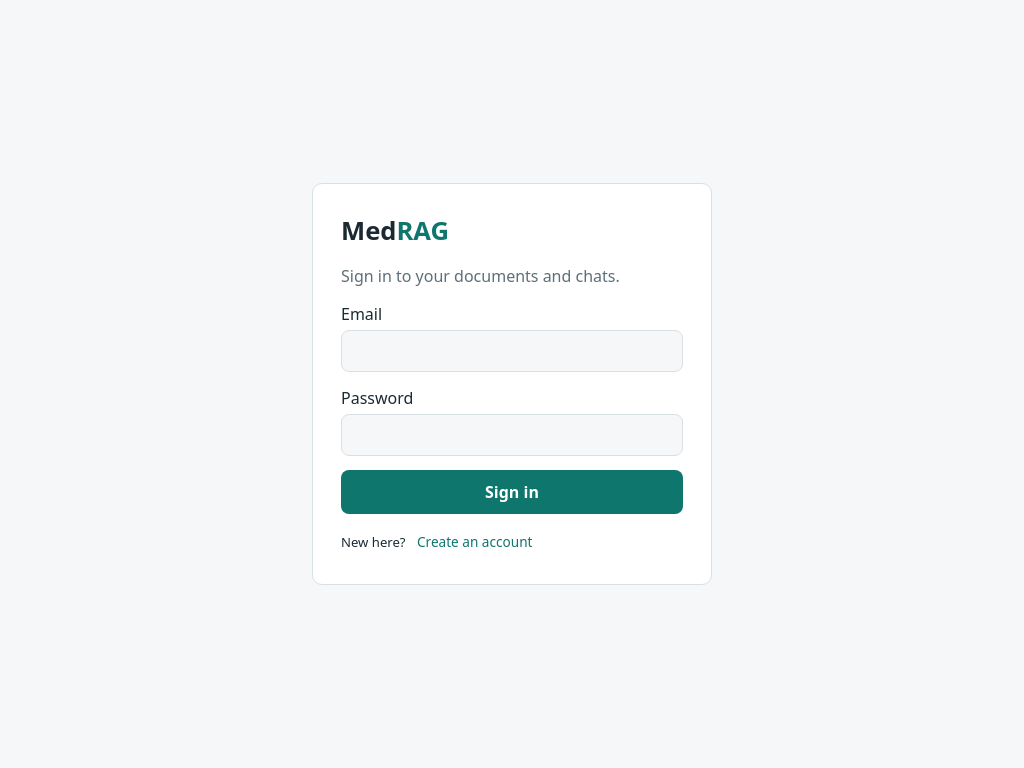
Scenario: signing in and out › shows the sign-in screen without a session, then the workspace
In the field labelled "Email": (512, 351) [341,330,683,372], type "alice@example.org"
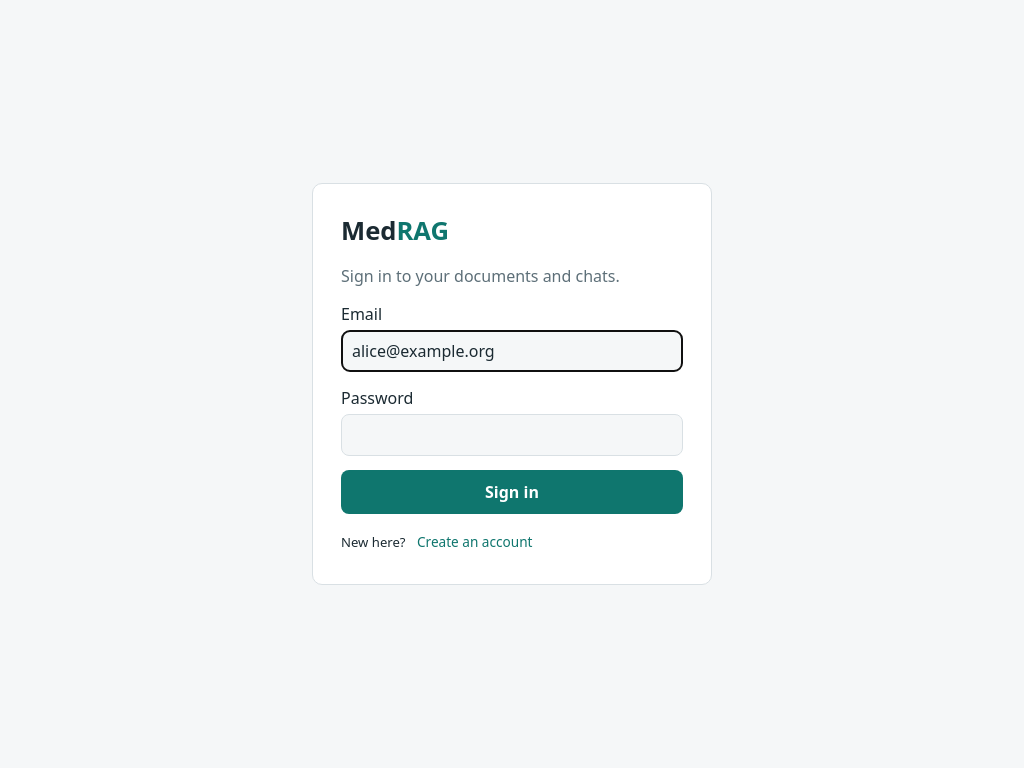
In the password field labelled "Password": (512, 435) [341,414,683,456], type "correct horse"
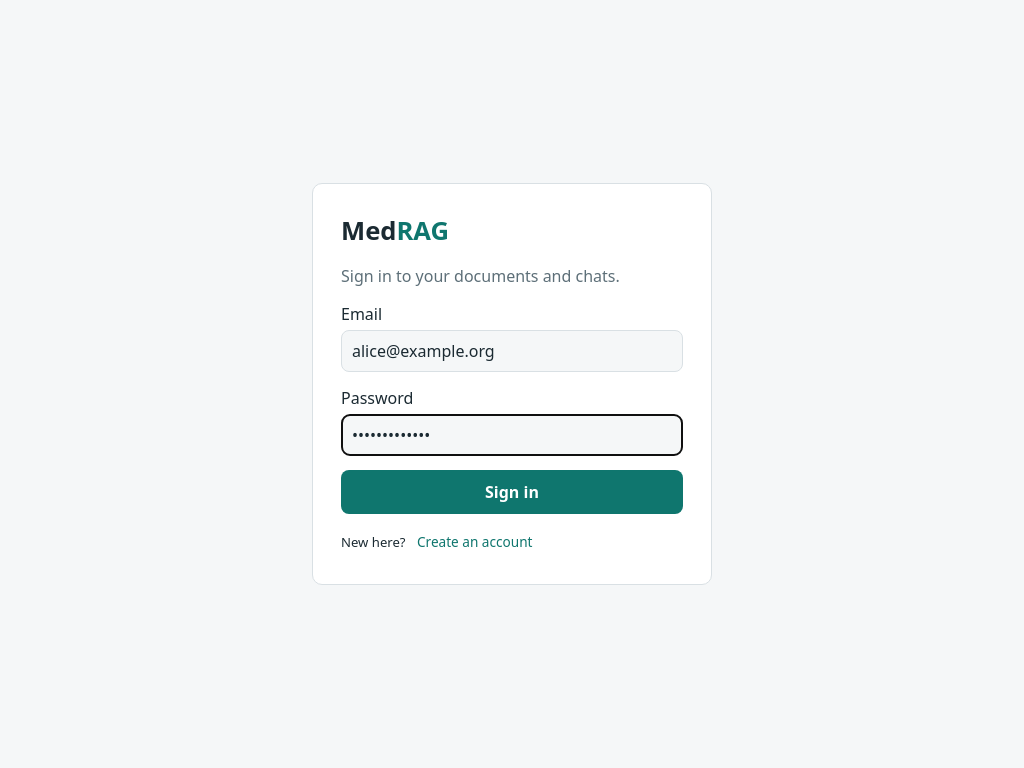
Click the button "Sign in": (512, 492) [341,470,683,514]
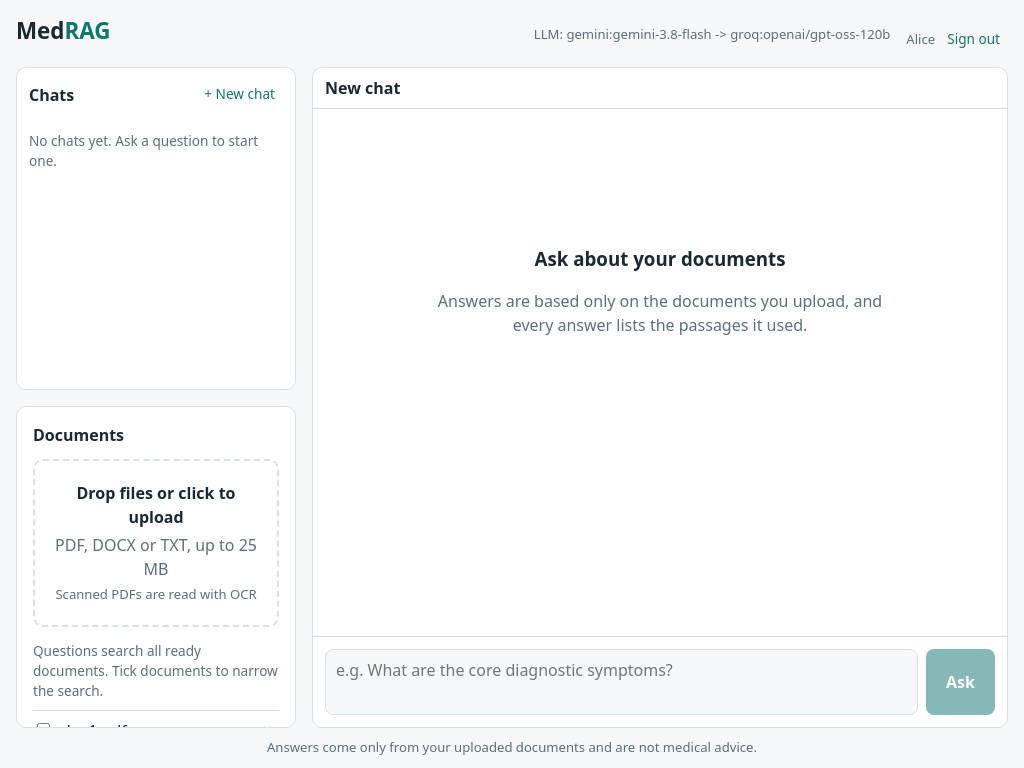
Expected: the text "Alice" is shown, [906,30,935,50]
